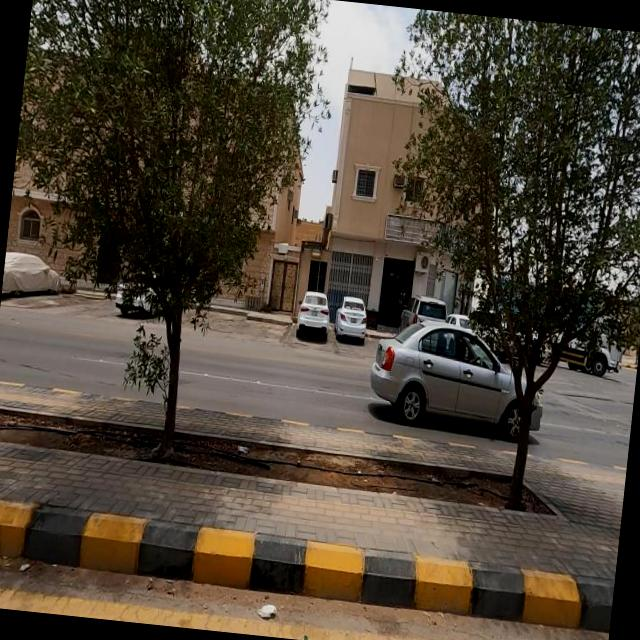debris: (206, 414, 277, 490), (400, 444, 468, 511)
